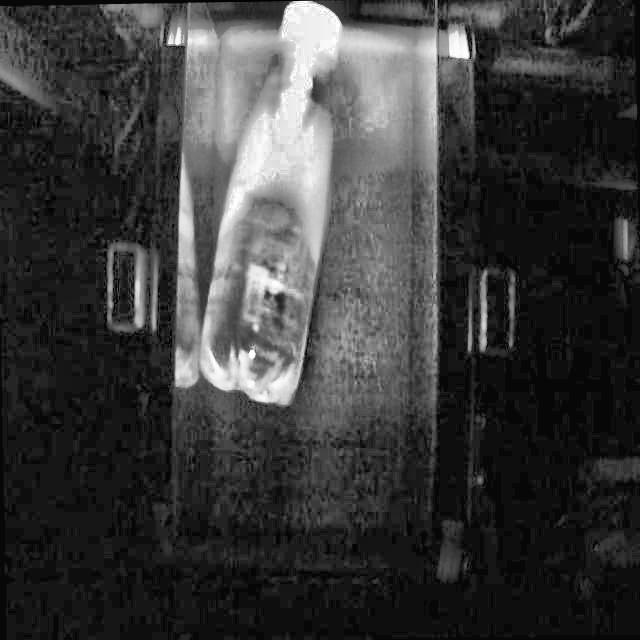plastic bottle: (201, 3, 348, 405)
